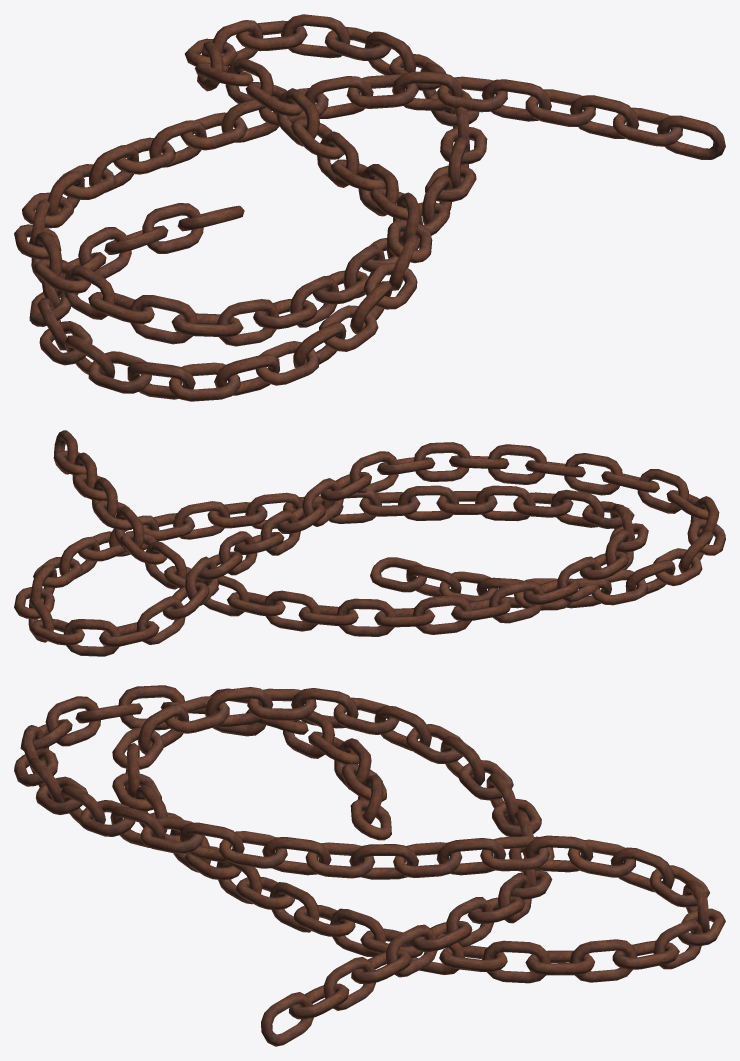
The model's file is SM_Chain_01.fbx.
3 views of the same model, one above another, from view 1: azimuth 30°, elevation 25°; view 2: azimuth 150°, elevation 25°; view 3: azimuth 270°, elevation 25° (orthographic). The views are drawn at different scales.
Parts seen in each view (by area): view 1: SM_Chain_01_LOD0; view 2: SM_Chain_01_LOD0; view 3: SM_Chain_01_LOD0.
Part boxes in pixels (x1,y1,x2,y2): SM_Chain_01_LOD0: (14, 14, 725, 401); SM_Chain_01_LOD0: (14, 430, 725, 656); SM_Chain_01_LOD0: (14, 685, 725, 1046).
Size of the model in its own units: 163 by 146 by 15.8.
Materials: 1 (1 with a texture image).
